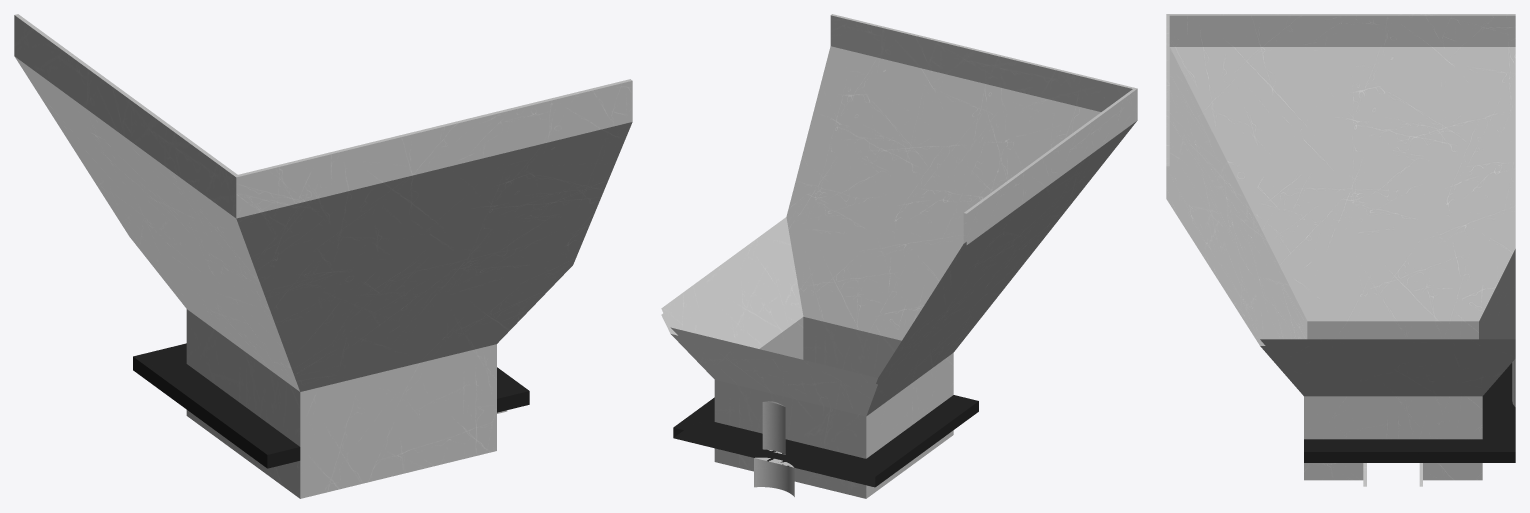
The model's file is Cube05_TightenerStation.glb.
3 views of the same model, side by side, from view 1: azimuth 30°, elevation 25°; view 2: azimuth 150°, elevation 25°; view 3: azimuth 270°, elevation 25° (orthographic). The views are drawn at different scales.
Visible parts, largest first — view 1: color-2.003; view 2: color-2.003; view 3: color-2.003.
Boxes of the visible parts, box(x1,y1,x2,y2) form: color-2.003: box(14, 14, 632, 498); color-2.003: box(661, 14, 1137, 498); color-2.003: box(1166, 14, 1515, 486).
Size of the model in its own units: 0.3023 by 0.3079 by 0.2932.
Materials: 2 (2 with a texture image).
